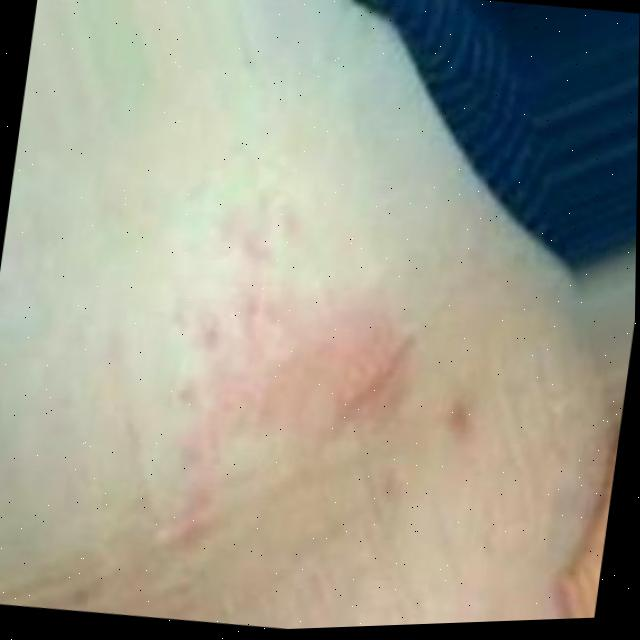Shingles: (208, 282, 428, 454)
